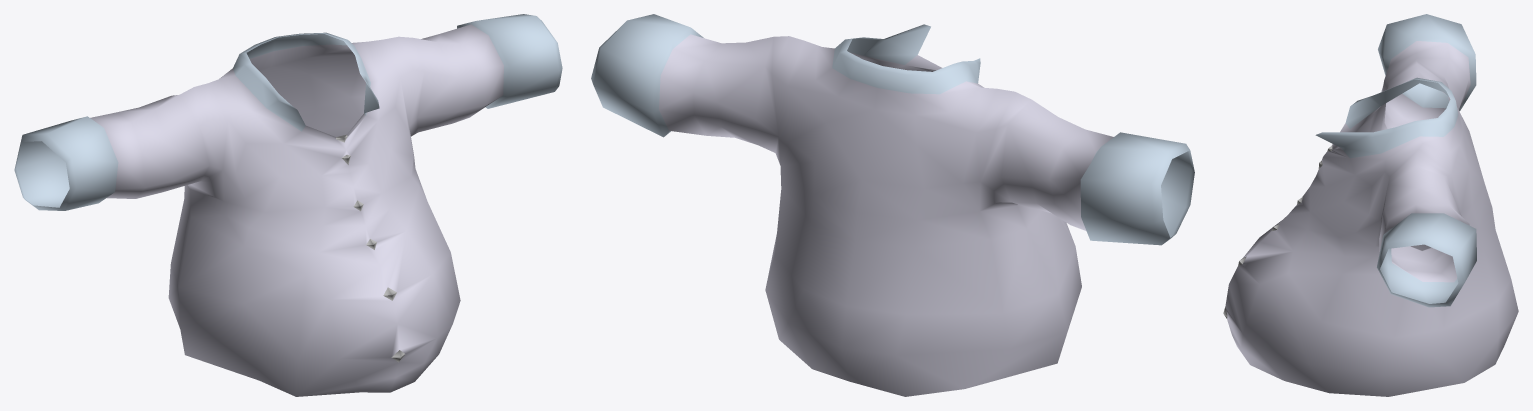
File: Shirt_Big.fbx
The picture shows the model from 3 angles, left to right: view 1: azimuth 30°, elevation 25°; view 2: azimuth 150°, elevation 25°; view 3: azimuth 270°, elevation 25°; orthographic projection. The views are drawn at different scales.
Visible parts, largest first — view 1: Shirt_Big; view 2: Shirt_Big; view 3: Shirt_Big.
Boxes of the visible parts, box(x1,y1,x2,y2) form: Shirt_Big: box(14, 14, 562, 396); Shirt_Big: box(591, 14, 1194, 396); Shirt_Big: box(1223, 14, 1518, 396).
Bounding box in the file's own units: 109 × 55.07 × 57.81.
